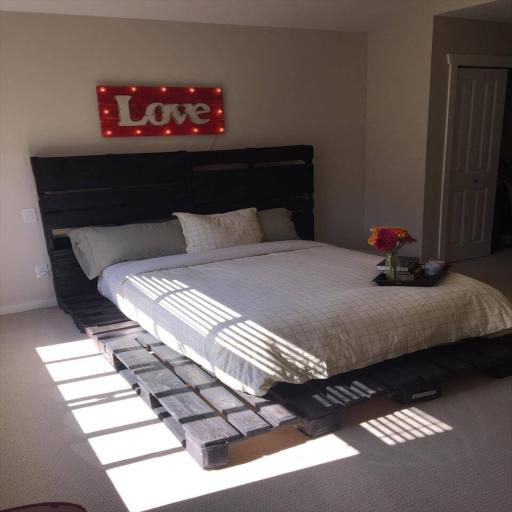bed: (31, 145, 511, 469)
